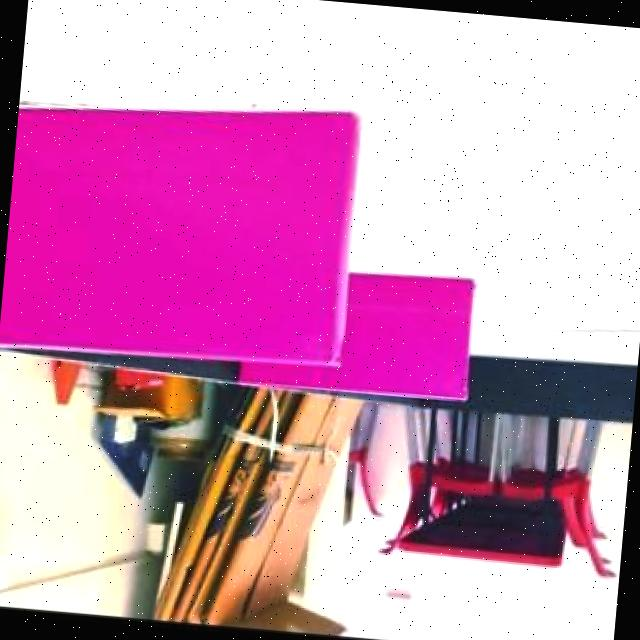xparking: (0, 98, 357, 363), (342, 274, 474, 404)
